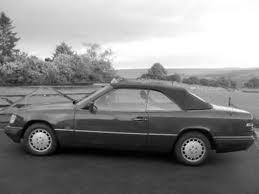car: (5, 78, 257, 169)
